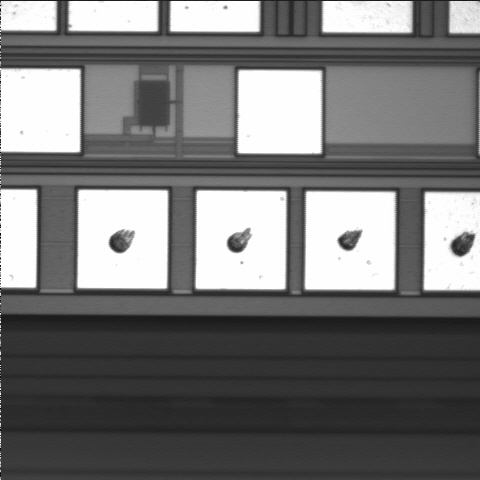pad: (78, 190, 168, 289), (196, 191, 286, 289), (305, 192, 395, 290), (238, 70, 322, 154)
